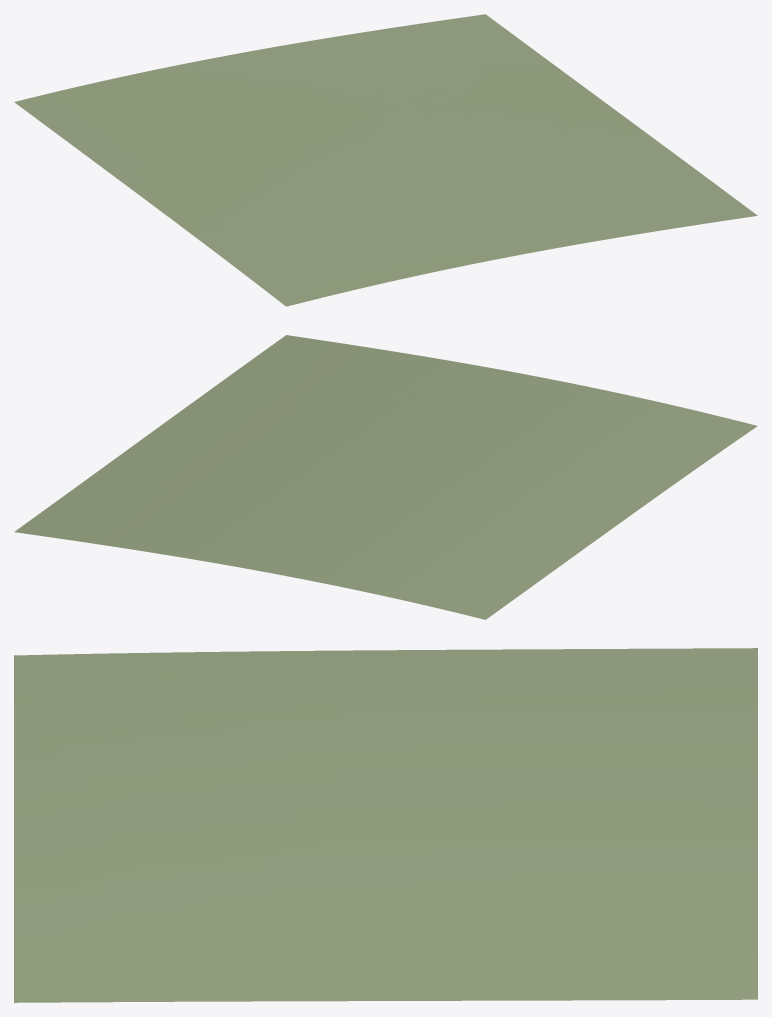
Rendered from valley-11-5.glb.
The picture shows the model from 3 angles, top to bottom: view 1: azimuth 30°, elevation 25°; view 2: azimuth 150°, elevation 25°; view 3: azimuth 270°, elevation 25°; orthographic projection. The views are drawn at different scales.
Visible parts, largest first — view 1: valley-11-5; view 2: valley-11-5; view 3: valley-11-5.
Part boxes in pixels (bbox=[...]): valley-11-5: bbox=[14, 14, 757, 306]; valley-11-5: bbox=[14, 335, 757, 619]; valley-11-5: bbox=[14, 648, 757, 1002].
Size of the model in its own units: 256 by 15.33 by 256.
